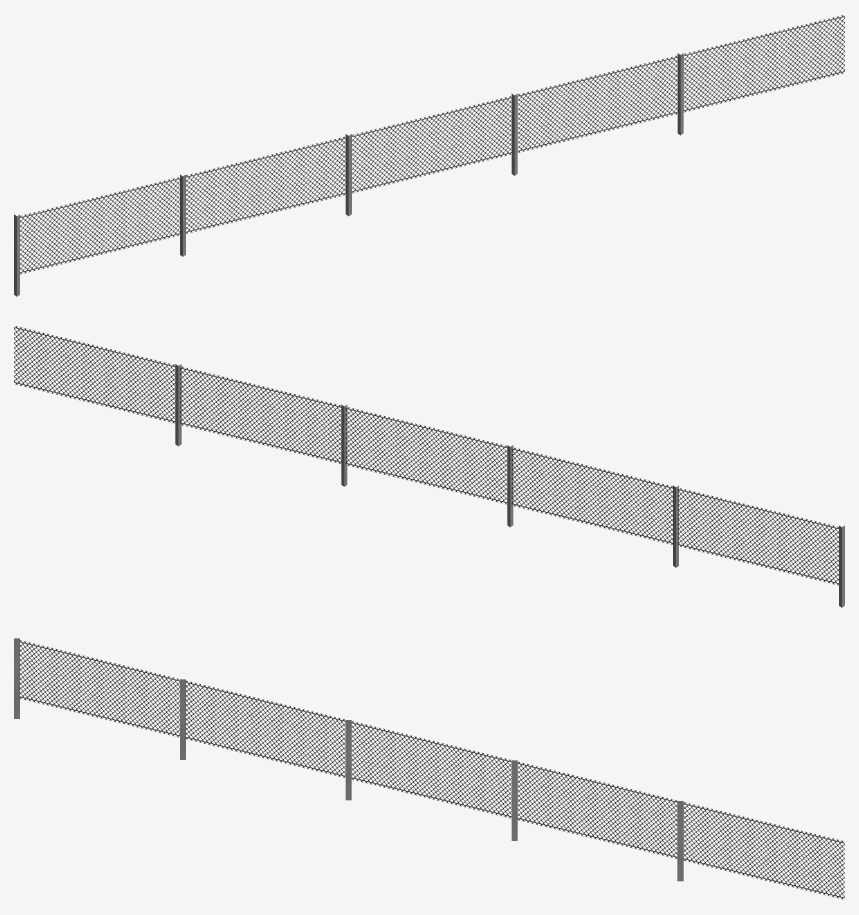
File: fence-chainlink-2wire-5s-cbj_LOD01.gltf
3 views of the same model, one above another, from view 1: azimuth 30°, elevation 25°; view 2: azimuth 150°, elevation 25°; view 3: azimuth 330°, elevation 25° (orthographic).
Parts seen in each view (by area): view 1: chainlink01; view 2: chainlink01; view 3: chainlink01.
Boxes of the visible parts, left/top/right/bottom form: chainlink01: left=14, top=15, right=844, bottom=296; chainlink01: left=14, top=326, right=844, bottom=607; chainlink01: left=14, top=638, right=844, bottom=899.
Bounding box in the file's own units: 14.35 × 1.34 × 0.092.
